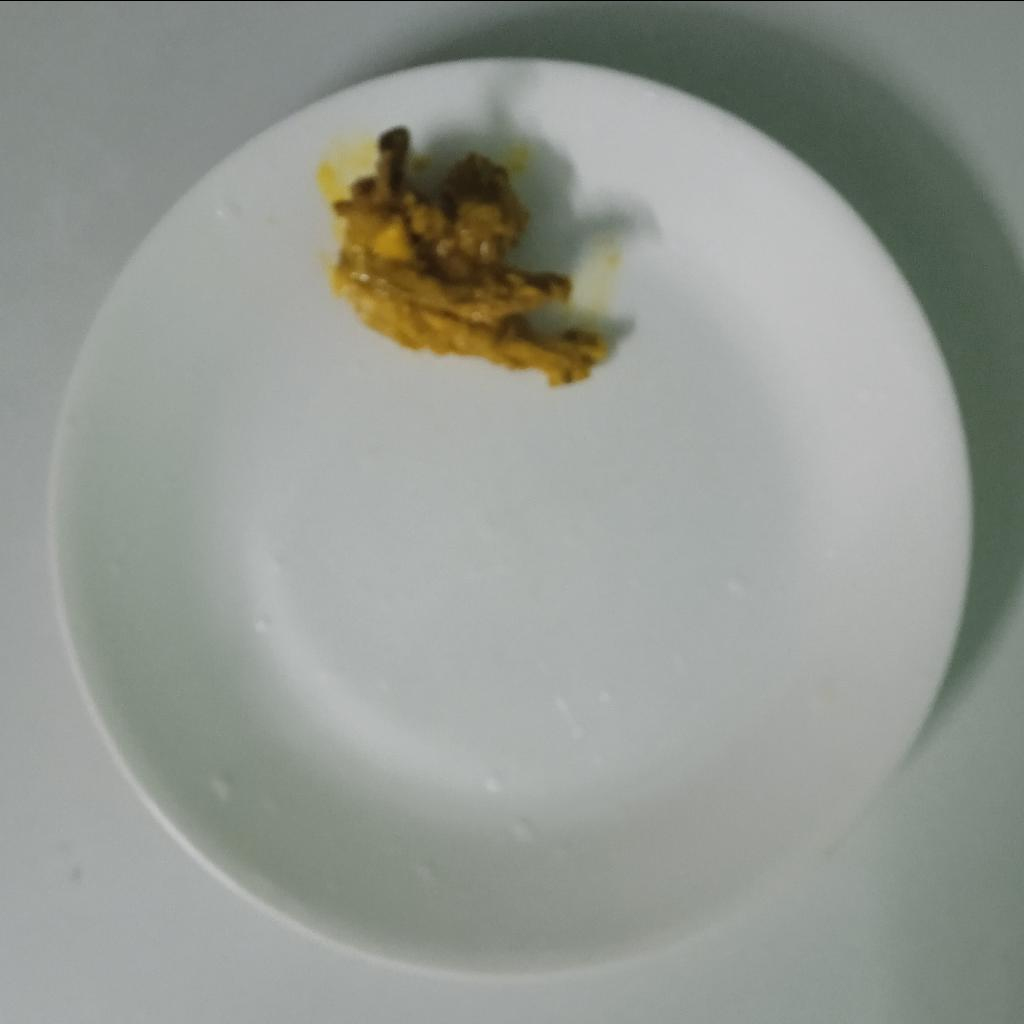chicken: (331, 121, 604, 389)
